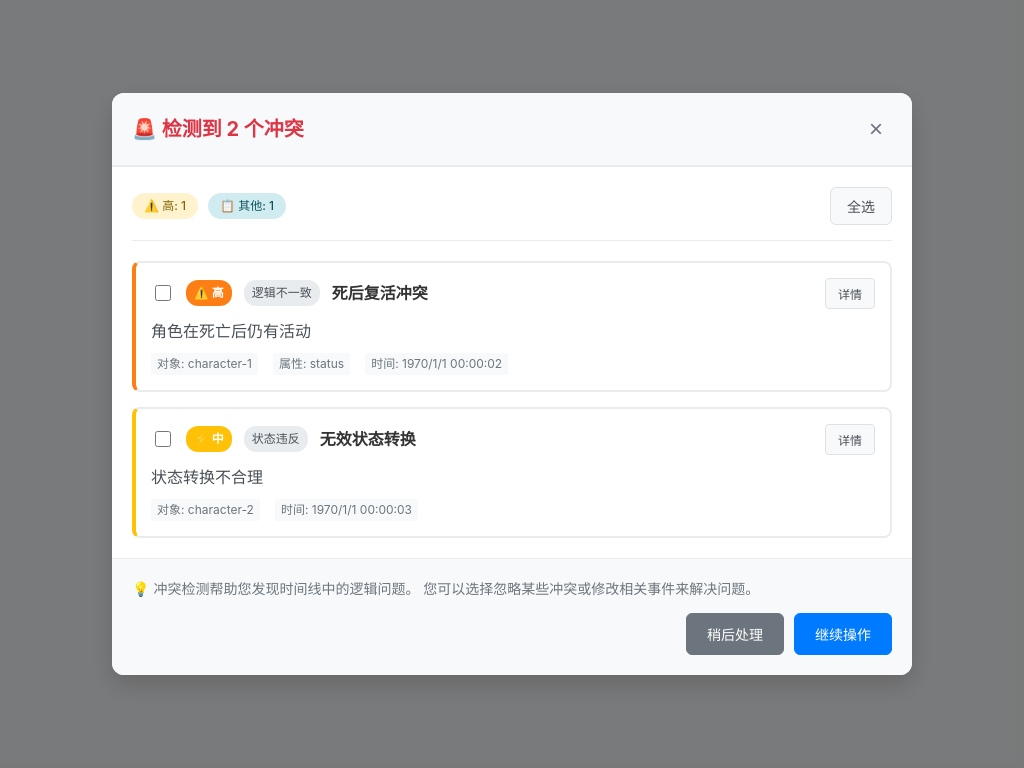
Test: ConflictWarningDialog › 详情展开 › 应该显示相关事件信息
Click the button "详情" in the row of "死后复活冲突".
click(850, 293)  # box [825,278,875,309]
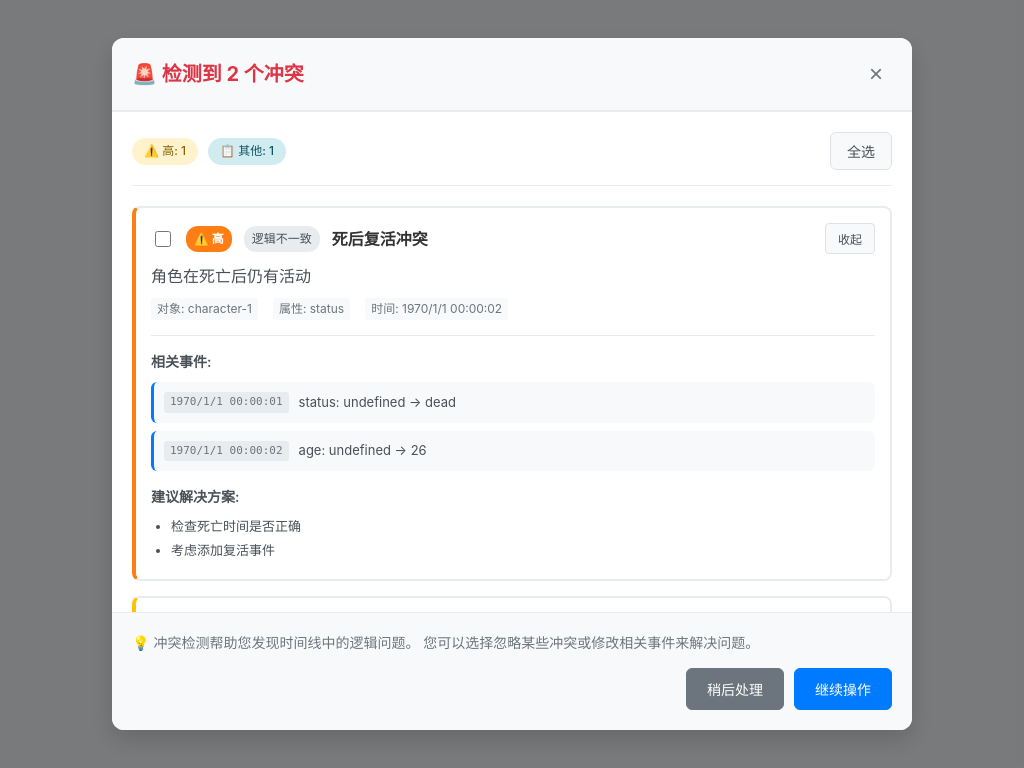
Now the text "status: undefined → dead" is shown, box [299,393,456,412]
Now the text "age: undefined → 26" is shown, box [299,441,427,461]
